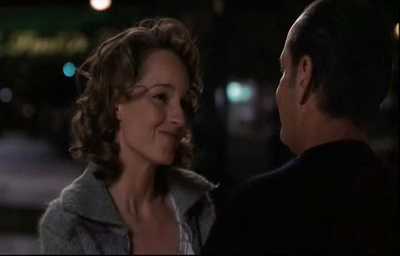cu: (1, 1, 400, 256)
face: (136, 66, 191, 166)
ots: (206, 1, 400, 256)
person: (38, 17, 220, 255)
